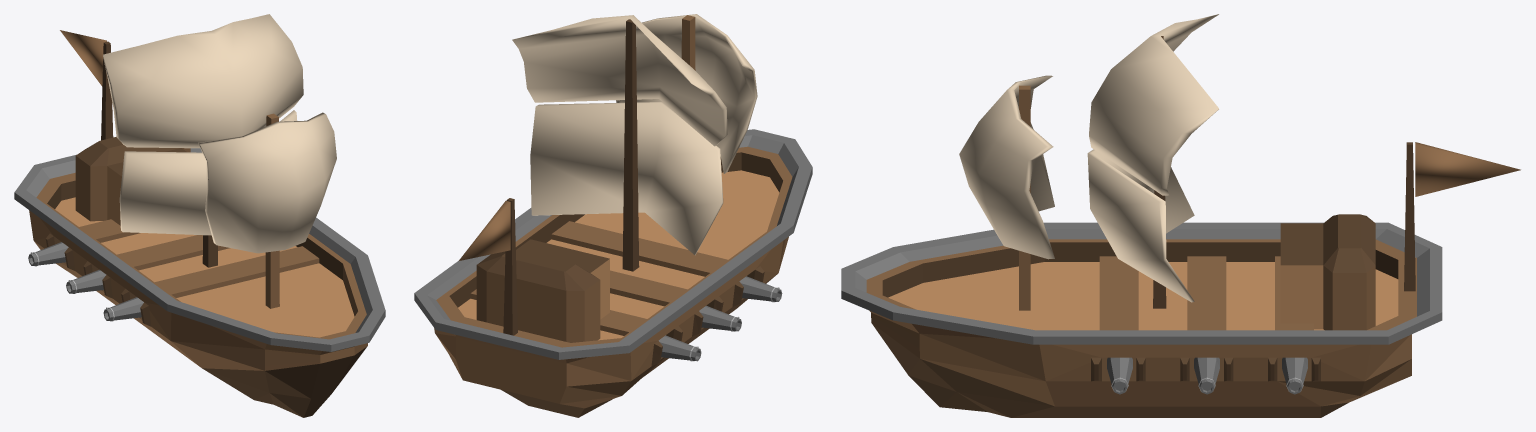
The model's file is smallShip2.fbx.
3 renders of one model, left to right at view 1: azimuth 30°, elevation 25°; view 2: azimuth 150°, elevation 25°; view 3: azimuth 270°, elevation 25°, orthographic. The views are drawn at different scales.
Visible parts, largest first — view 1: Cañonero, Sails_1, Hull_1, Crew_1, cannon_2, cannon_1; view 2: Cañonero, Hull_1, Crew_1, Sails_1, cannon_2, cannon_1; view 3: Cañonero, Hull_1, Sails_1, Crew_1, cannon_2, cannon_1.
Boxes of the visible parts, bbox=[...] form: Cañonero: bbox=[29, 14, 367, 417]; Sails_1: bbox=[198, 112, 336, 308]; Hull_1: bbox=[14, 148, 385, 351]; Crew_1: bbox=[75, 137, 190, 225]; cannon_2: bbox=[103, 288, 151, 326]; cannon_1: bbox=[28, 233, 75, 270]; Cañonero: bbox=[434, 15, 792, 417]; Hull_1: bbox=[414, 129, 812, 359]; Crew_1: bbox=[476, 239, 609, 319]; Sails_1: bbox=[616, 14, 757, 173]; cannon_2: bbox=[732, 266, 782, 306]; cannon_1: bbox=[651, 326, 701, 365]; Cañonero: bbox=[866, 14, 1520, 417]; Hull_1: bbox=[841, 222, 1442, 344]; Sails_1: bbox=[959, 75, 1054, 310]; Crew_1: bbox=[1280, 214, 1375, 329]; cannon_2: bbox=[1091, 357, 1145, 394]; cannon_1: bbox=[1268, 357, 1320, 394].
Size of the model in its own units: 4045 by 4950 by 8288.
